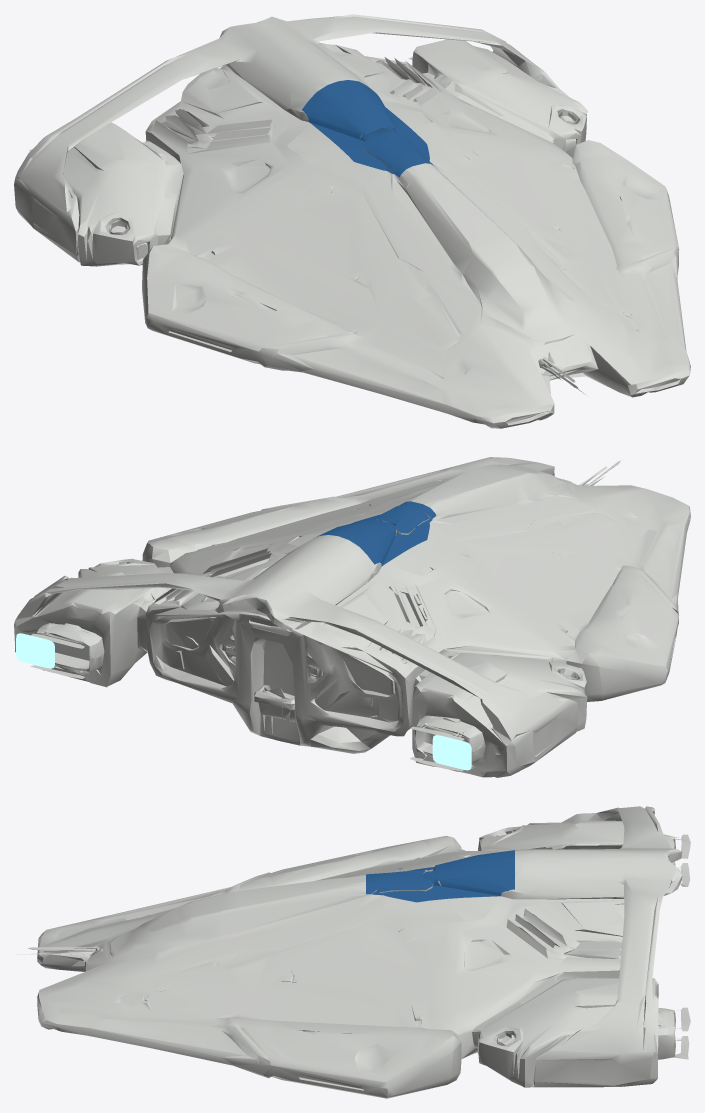
The model's file is viper-mk4.glb.
3 renders of one model, top to bottom at view 1: azimuth 30°, elevation 25°; view 2: azimuth 150°, elevation 25°; view 3: azimuth 270°, elevation 25°, orthographic. The views are drawn at different scales.
Visible parts, largest first — view 1: viper-mk4; view 2: viper-mk4; view 3: viper-mk4.
Boxes of the visible parts, box(x1,y1,x2,y2) form: viper-mk4: box(14, 14, 690, 428); viper-mk4: box(14, 457, 690, 777); viper-mk4: box(15, 806, 690, 1098).
Bounding box in the file's own units: 24.59 × 8.64 × 29.67.
